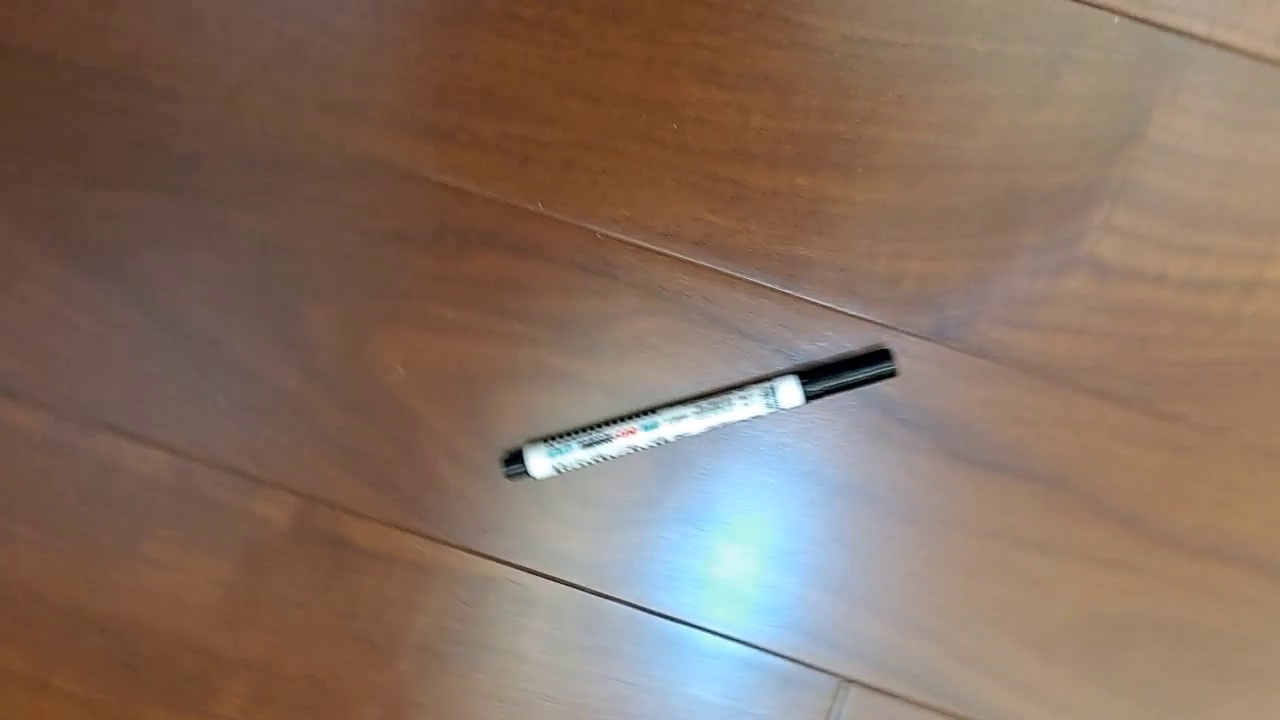pen: (498, 341, 902, 484)
